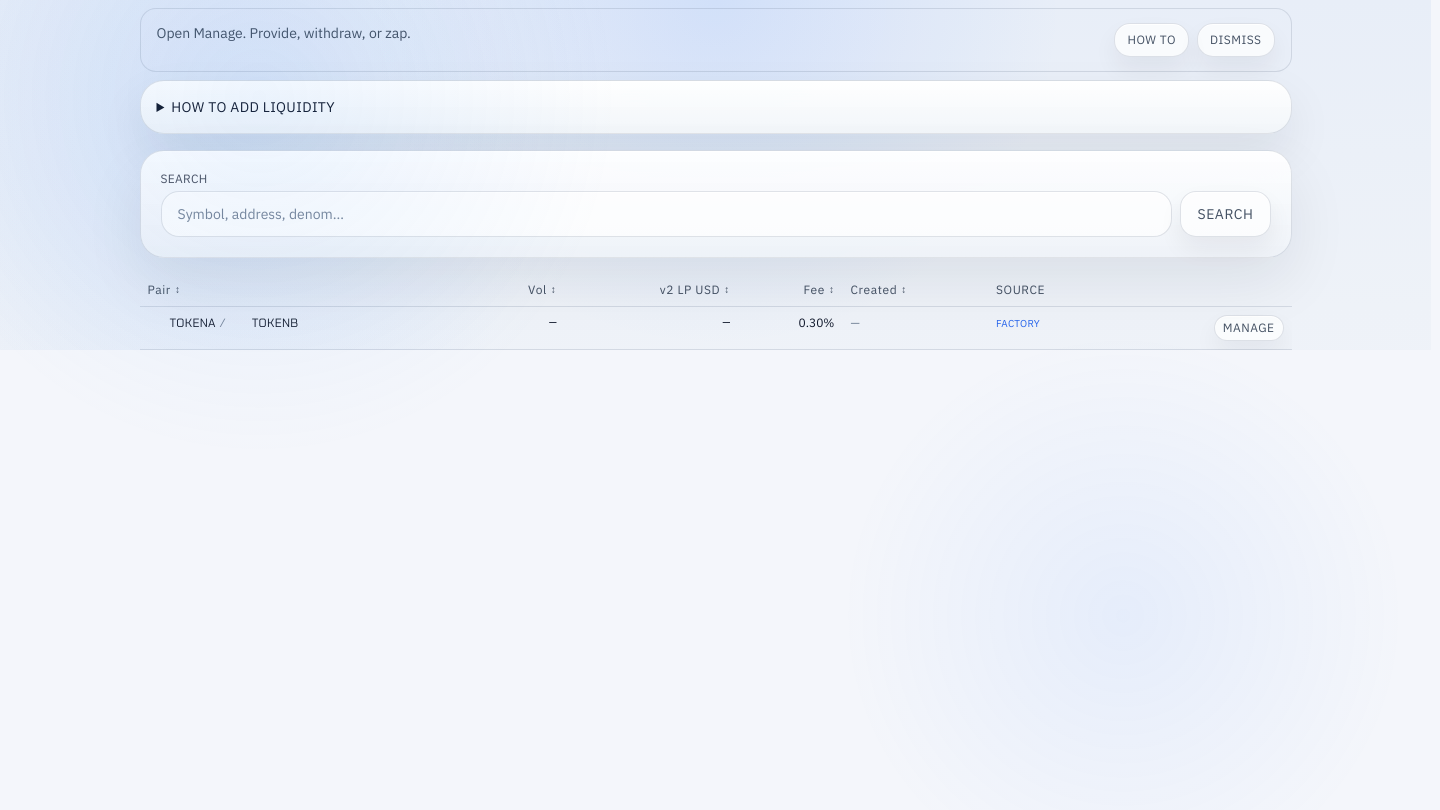
Scenario: PoolPage › U11 how-to no longer requires both tokens (H531-3)
Click the button with test id "pool-lp-howto-open" at (1152, 40), box [1114,23,1189,57]
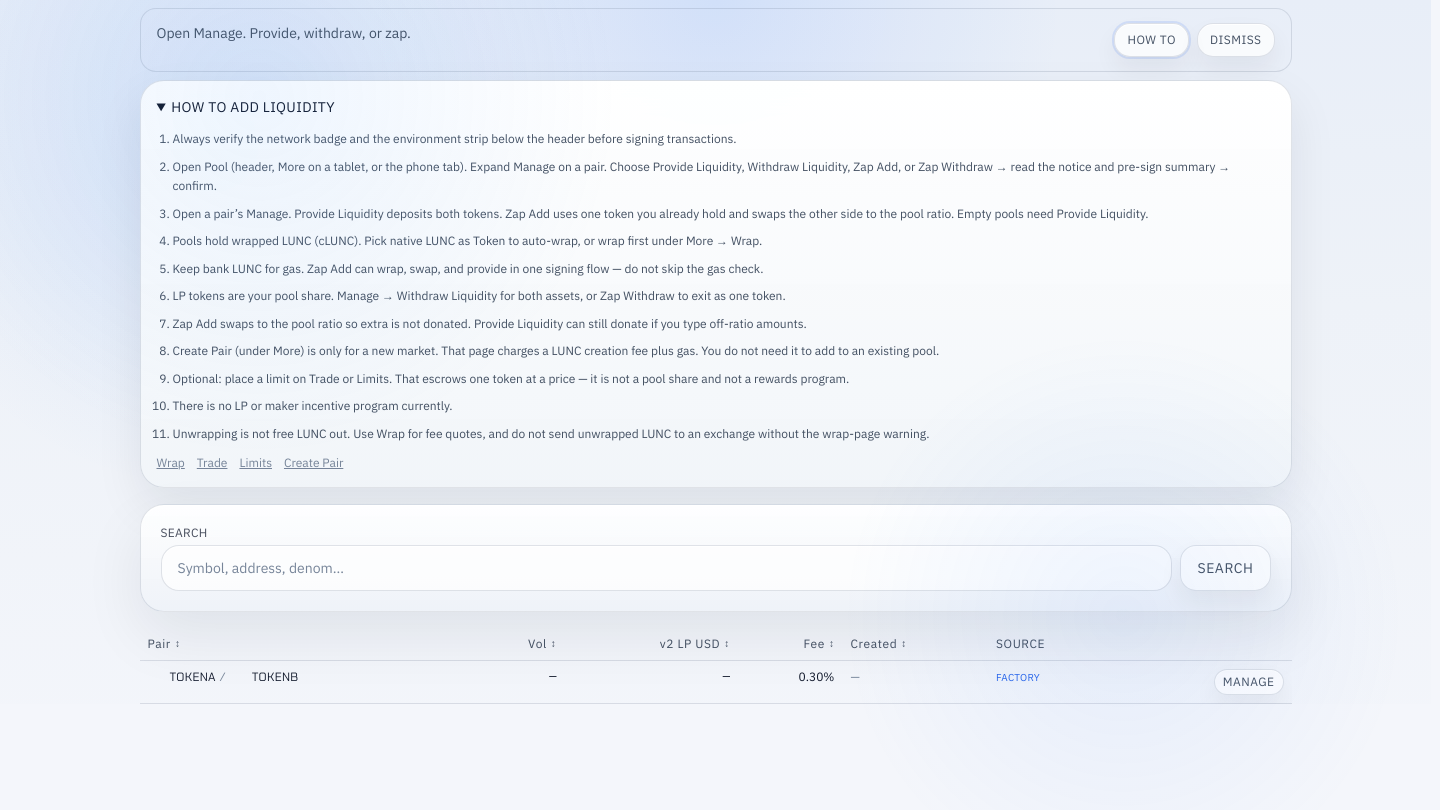
Expected: the list item with test id "pool-lp-howto-step-two-sided" does not show "both assets are required", [172,204,1274,223]
Now the list item with test id "pool-lp-howto-step-two-sided" shows "one token", box [172,206,1148,220]
Now the list item with test id "pool-lp-howto-step-two-sided" shows "Manage", box [172,206,1148,220]
